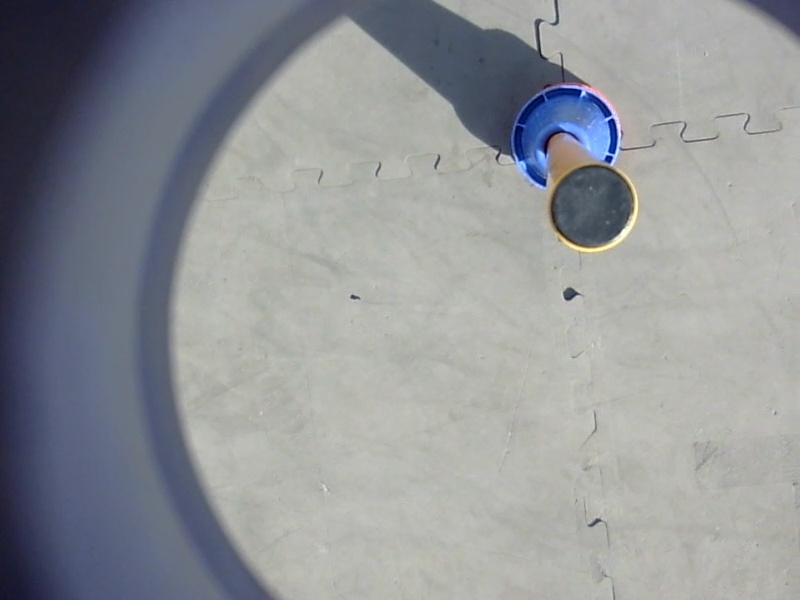tip: (540, 156, 648, 262)
